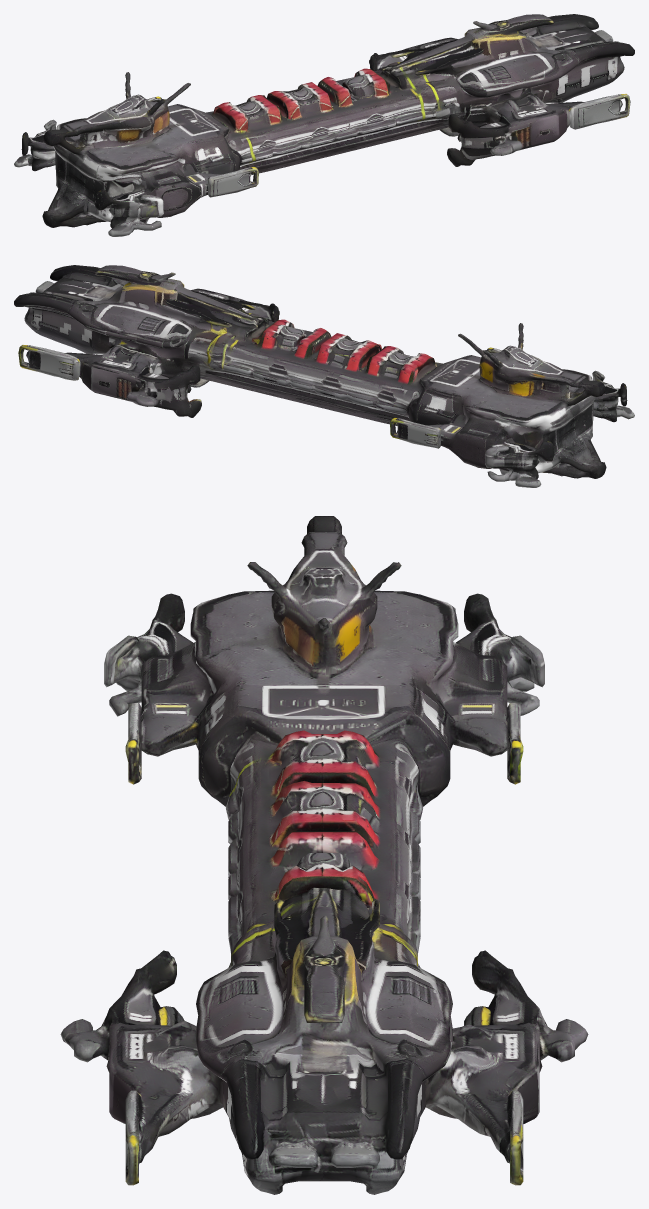
Rendered from earth-supply-jQJr0XHs.glb.
3 renders of one model, top to bottom at view 1: azimuth 30°, elevation 25°; view 2: azimuth 150°, elevation 25°; view 3: azimuth 270°, elevation 25°, orthographic. The views are drawn at different scales.
Bounding box in the file's own units: 1.91 × 0.4344 × 0.7632.
1 material, 1 textured.
